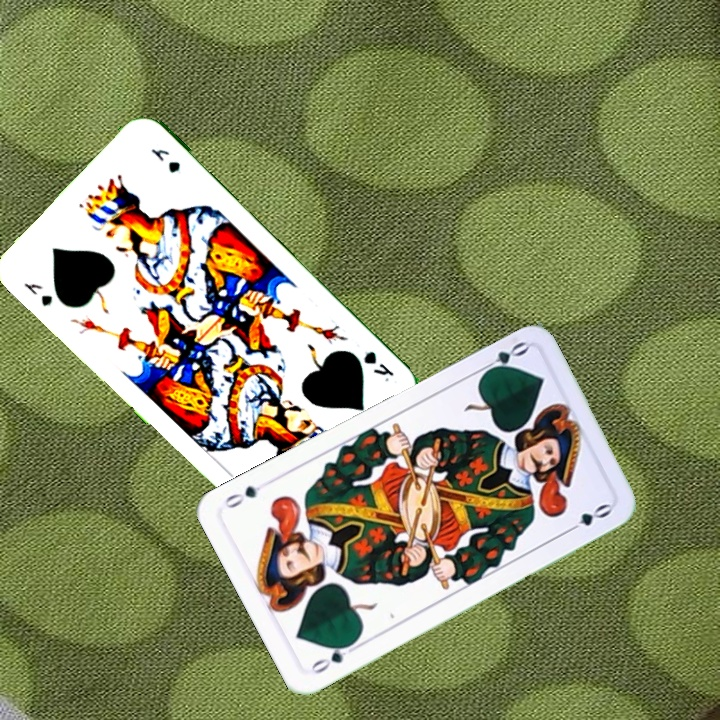GK: (359, 346, 397, 385), (19, 278, 55, 309)
GO: (475, 337, 531, 379), (306, 637, 361, 677)
